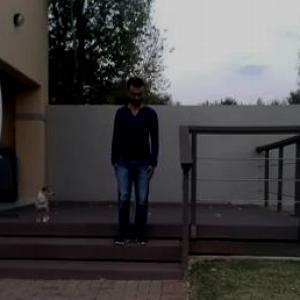follow: (114, 72, 160, 257)
